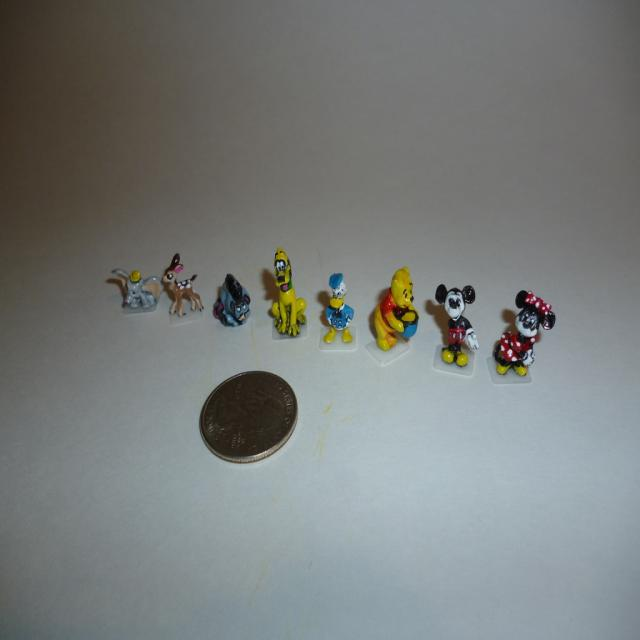Coin: (198, 366, 298, 461)
